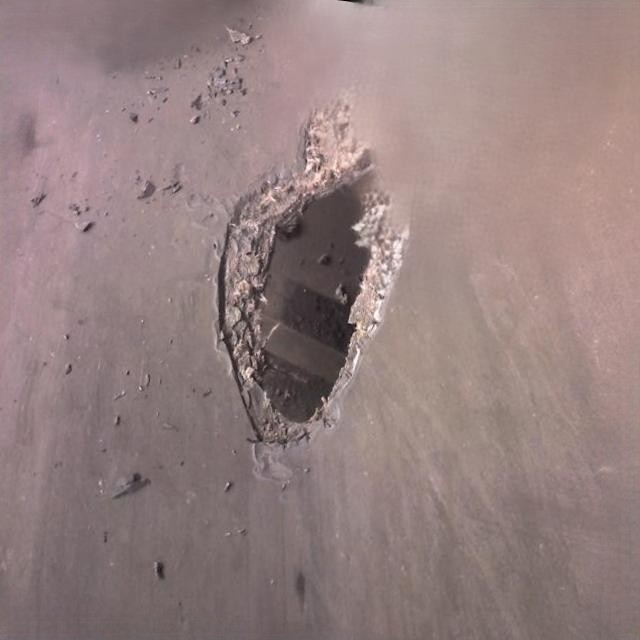Hole: (192, 83, 424, 478)
